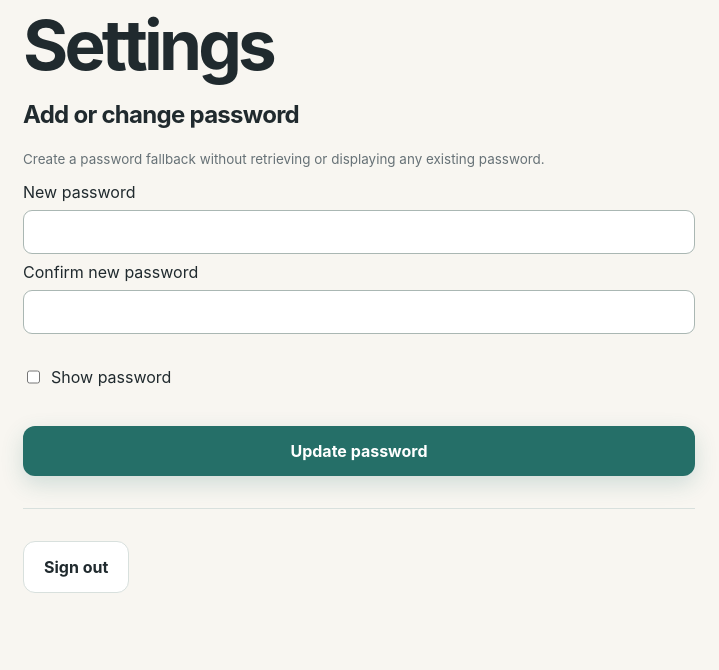
Test: password authentication fallback › lets an authenticated user change a confirmed password without persisting or logging it
Type "new-safe-pass" into the password field labelled "New password".
click(359, 232); type("new-safe-pass")  # box [23, 210, 695, 254]
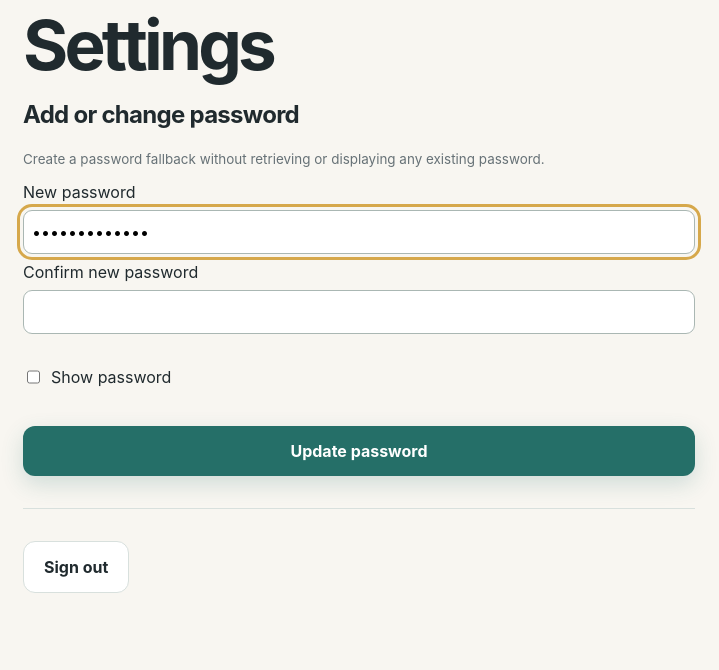
Type "new-safe-pass" into the password field labelled "Confirm new password".
click(359, 312); type("new-safe-pass")  # box [23, 290, 695, 334]
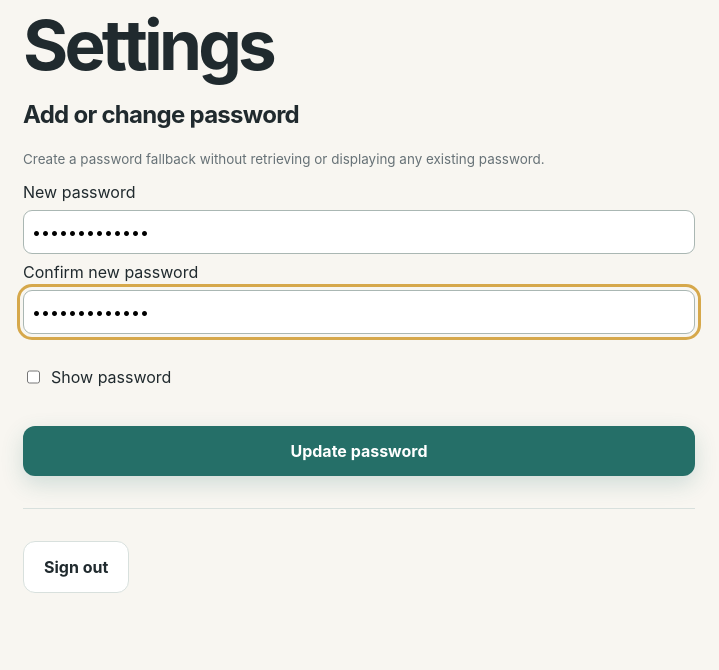
Click the button "Update password".
click(359, 451)  # box [23, 426, 695, 476]
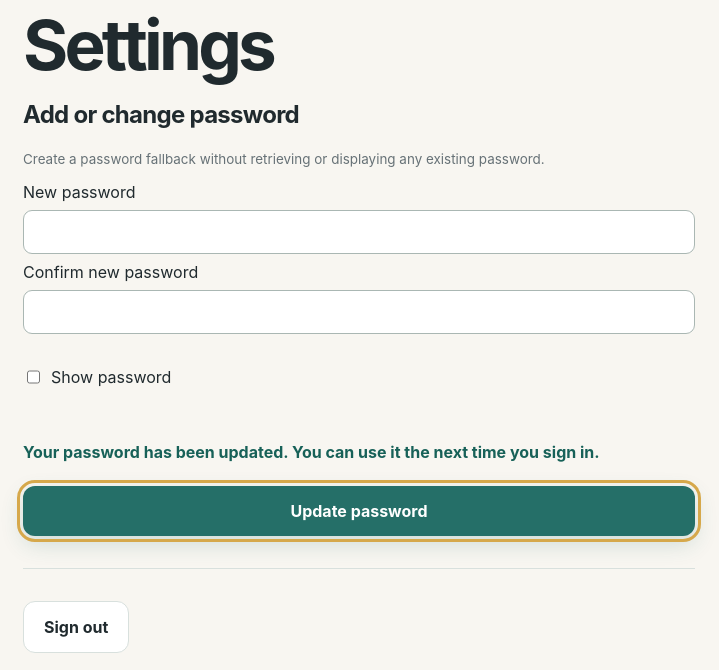
Check: the message shows "updated", box [23, 442, 600, 462]
